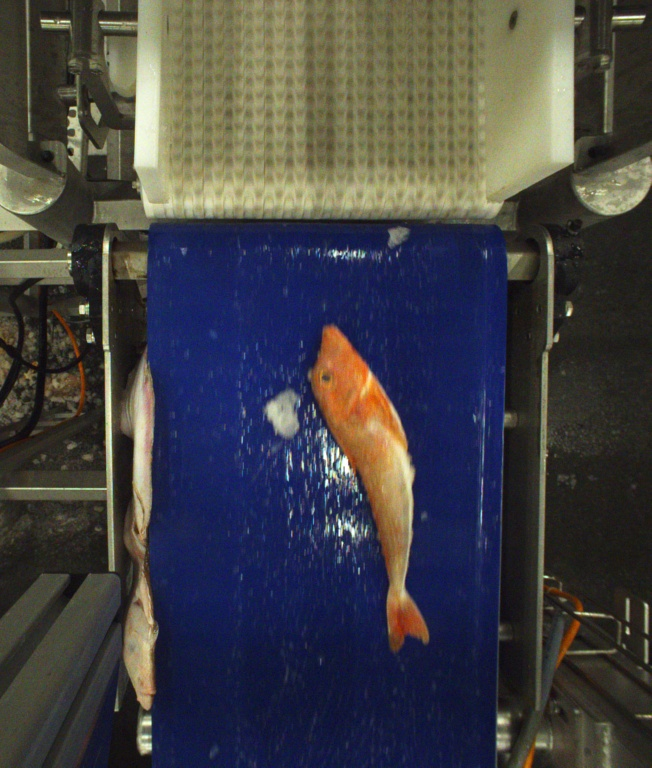GUU: (308, 325, 434, 650)
